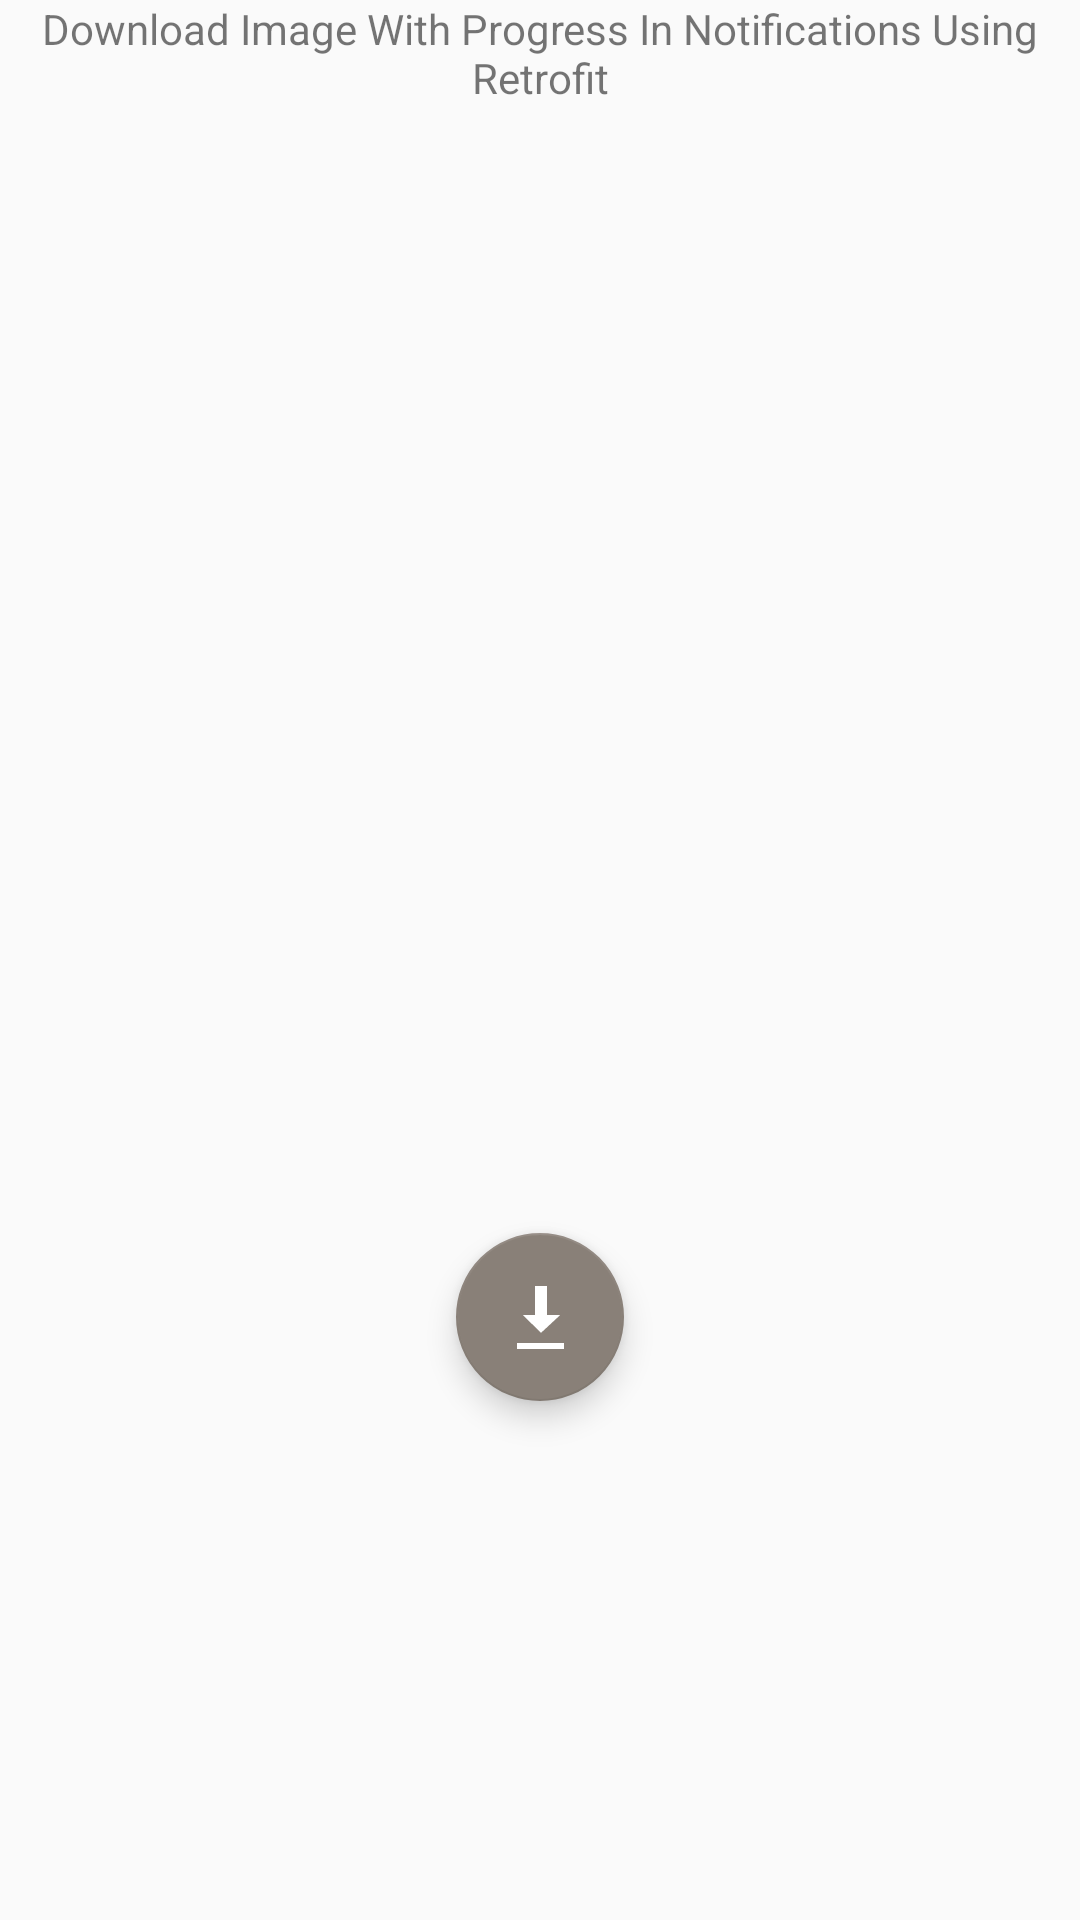

Icons on this 1080 × 1920 Android screen, each with its box as bbox=[x1, y1, x2, y2]:
download: bbox=[456, 1233, 624, 1401]
